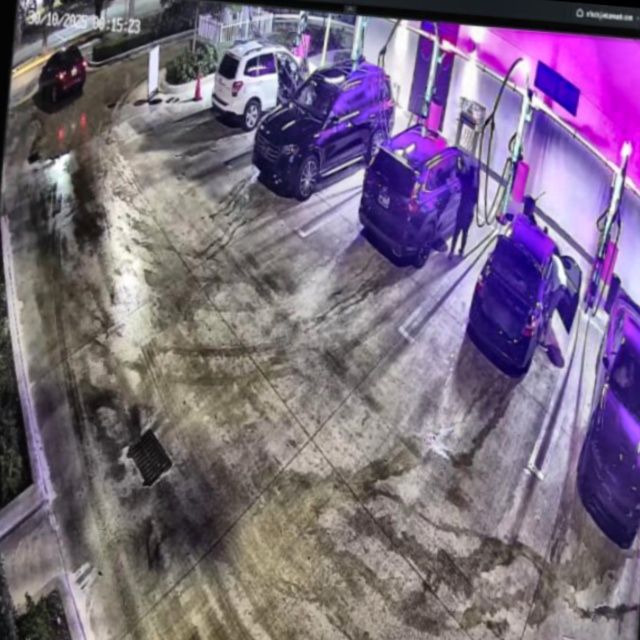Car: (252, 52, 400, 203), (455, 209, 583, 379), (357, 116, 483, 276)
